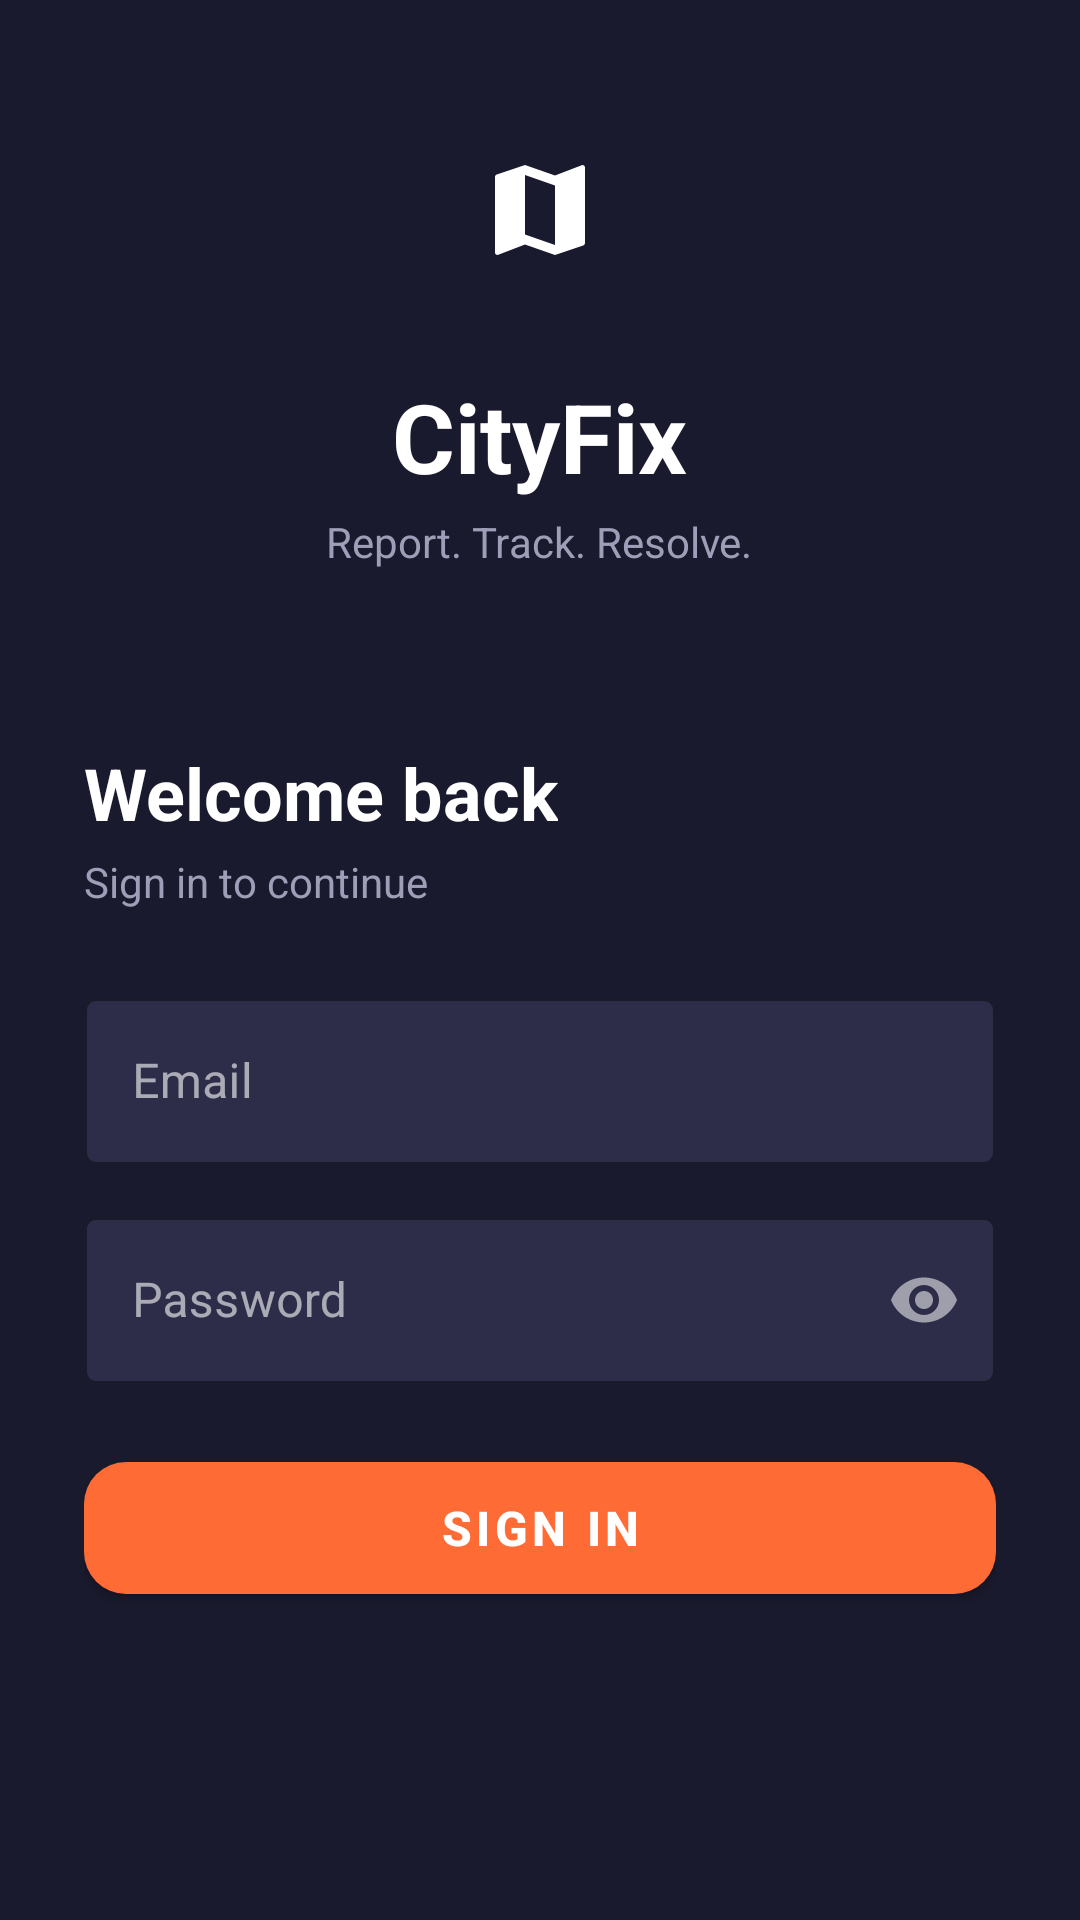

Point at icon controls on the screen. Image size 1080w x 1920h, points as point (x, y).
map: point (540, 210)
